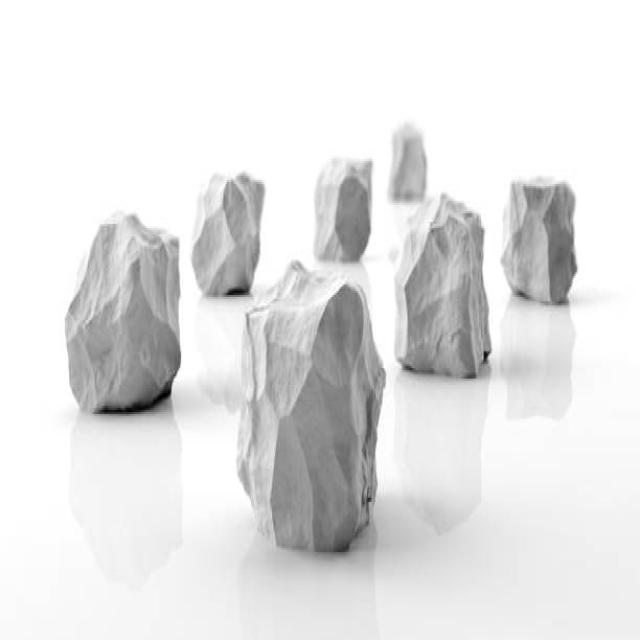Metamorphic: (249, 274, 390, 575), (60, 203, 187, 416), (394, 197, 494, 380), (496, 173, 597, 310), (190, 163, 267, 299), (308, 154, 378, 264), (384, 108, 432, 196)
